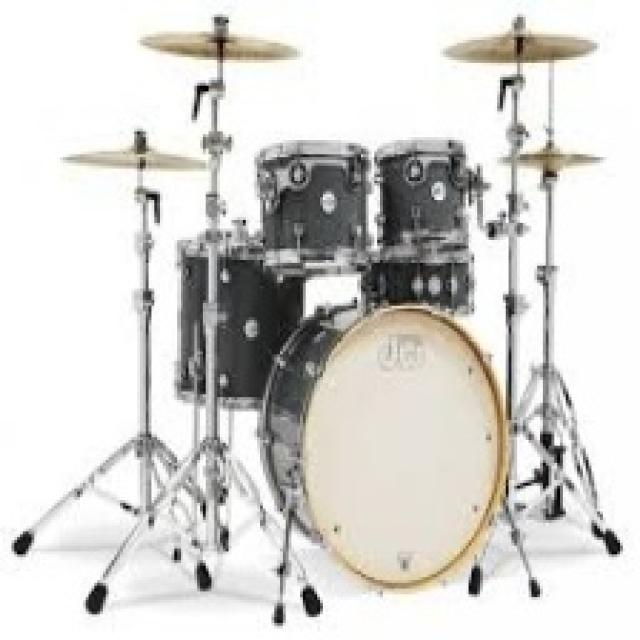drums: (7, 14, 628, 615)
